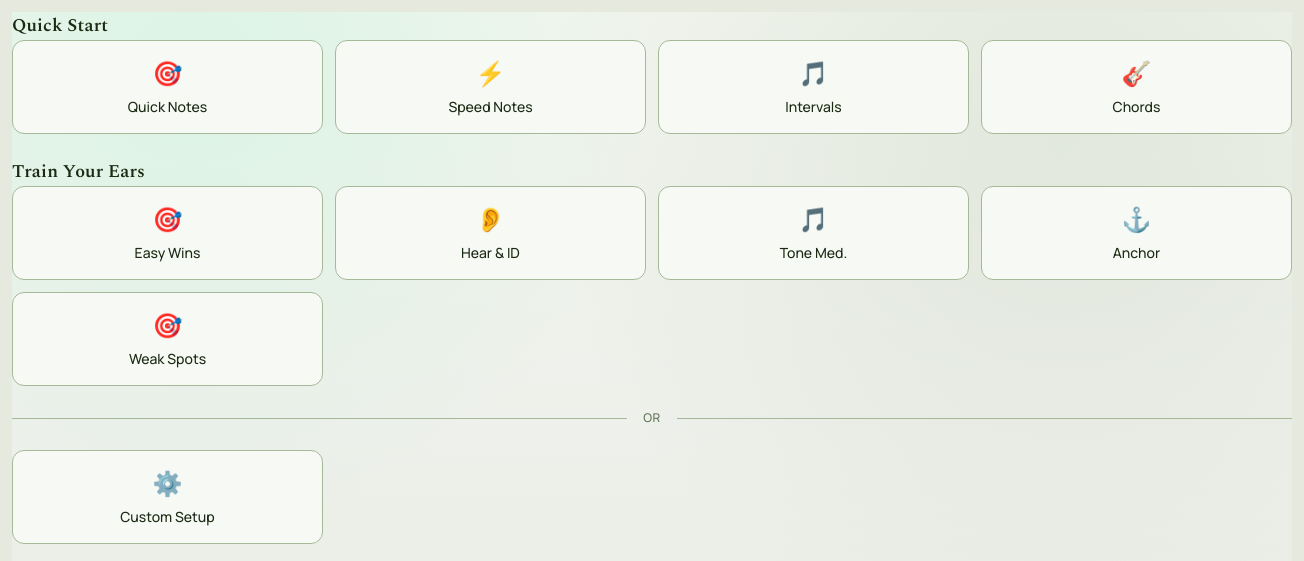
Test: QuizSelector › opens custom setup wizard
Click the button "⚙️ Custom Setup" at {"x": 168, "y": 497}, box [12, 450, 323, 544]
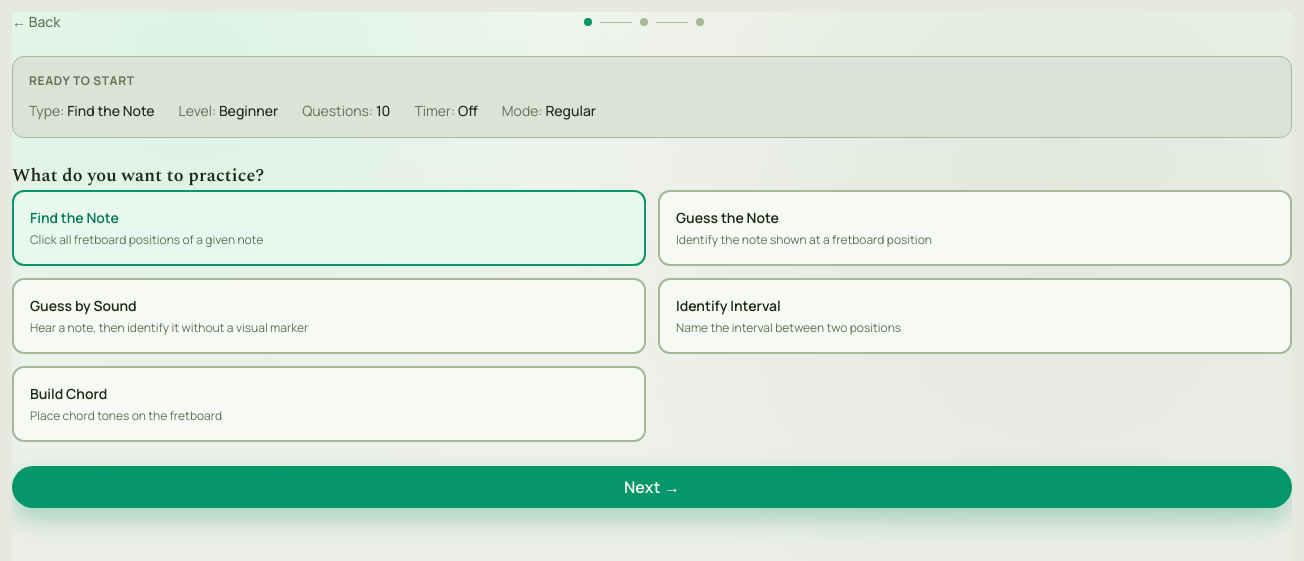
Expected: the button "← Back" is shown, [12, 12, 60, 32]
